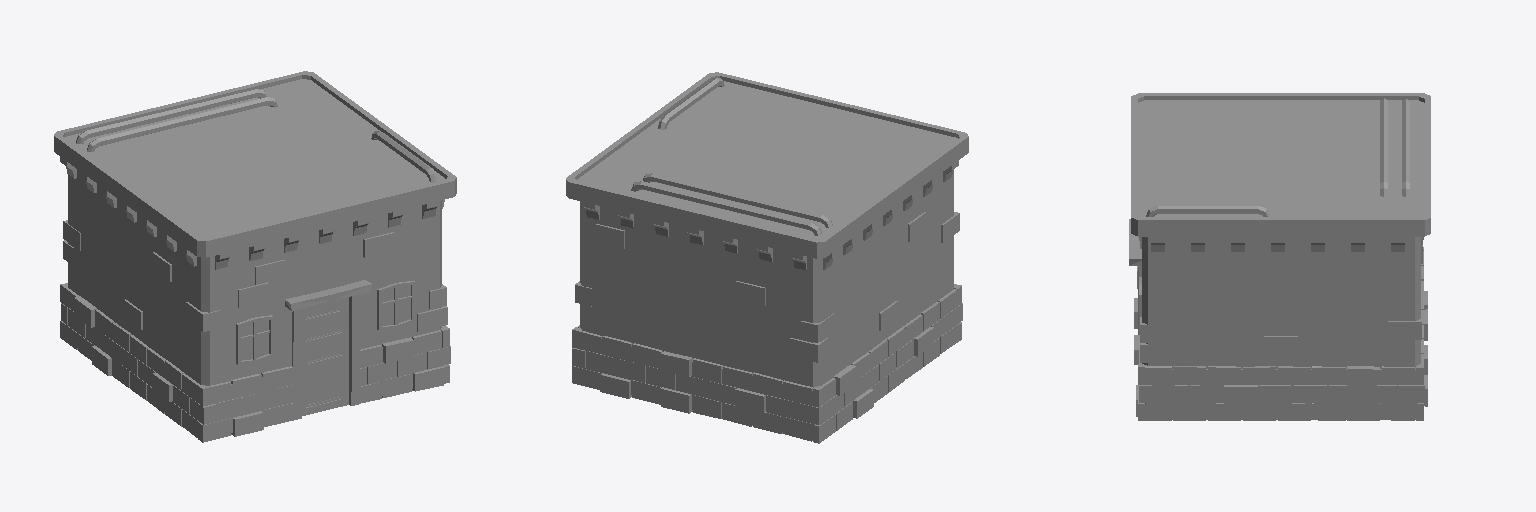
Rendered from 1Story.obj.
The picture shows the model from 3 angles: view 1: azimuth 30°, elevation 25°; view 2: azimuth 150°, elevation 25°; view 3: azimuth 270°, elevation 25°; orthographic projection.
Visible parts, largest first — view 1: 1Story_Cube.093; view 2: 1Story_Cube.093; view 3: 1Story_Cube.093.
Boxes of the visible parts, box(x1,y1,x2,y2) form: 1Story_Cube.093: box(54, 71, 456, 442); 1Story_Cube.093: box(566, 72, 968, 443); 1Story_Cube.093: box(1129, 93, 1430, 420).
Bounding box in the file's own units: 2.15 × 1.67 × 2.17.